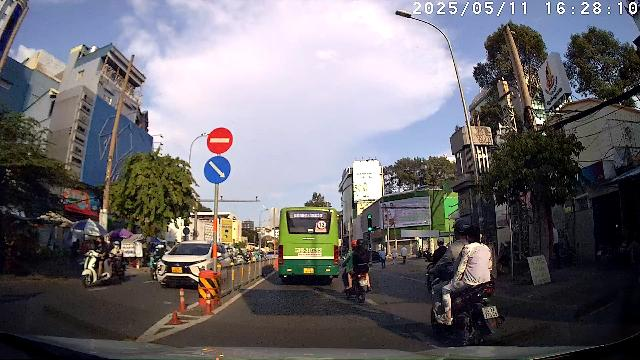102-cam-di-nguoc-chieu: (207, 127, 233, 154)
302a-huong-phai-di-vong-chuong-ngai-vat-1: (204, 156, 230, 184)
